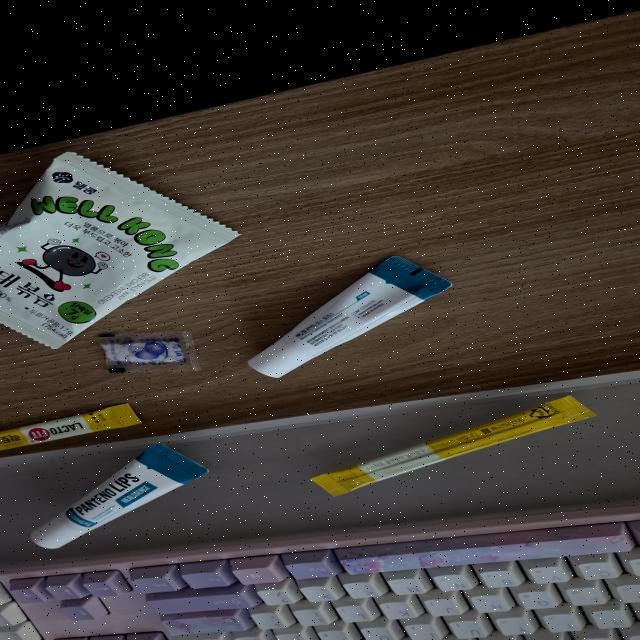lacto: (310, 393, 598, 498), (0, 403, 144, 452)
lib: (247, 254, 453, 380), (27, 442, 210, 550)
salt: (93, 329, 205, 375)
